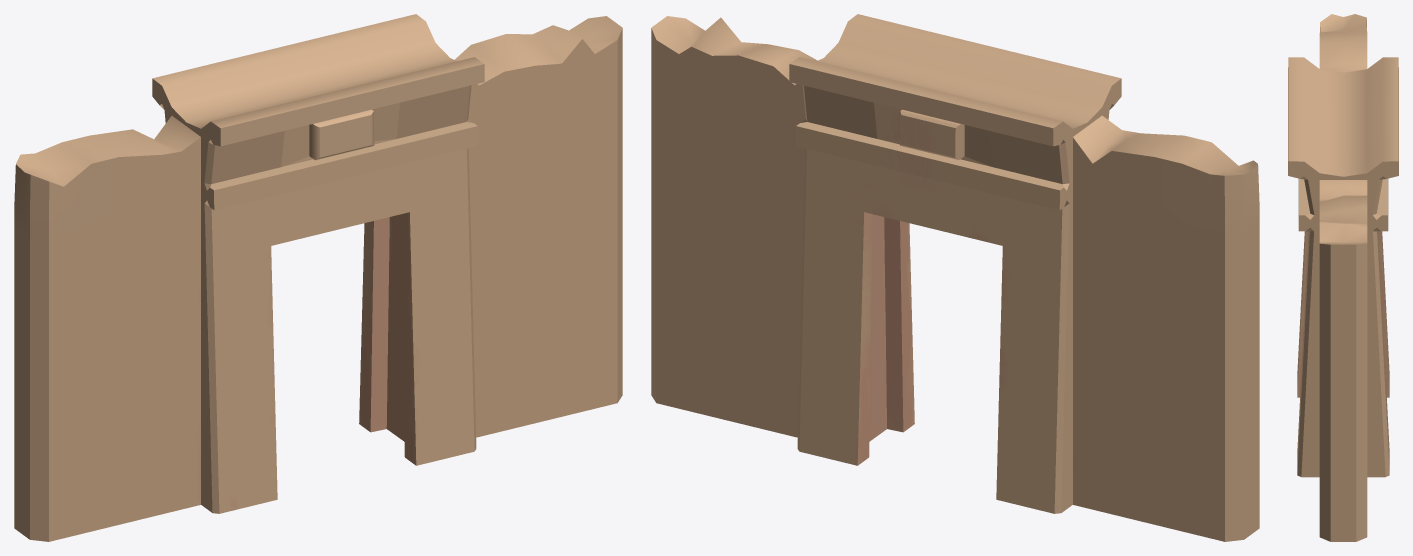
Rendered from ArchLIGHT_moranM.fbx.
The picture shows the model from 3 angles, left to right: view 1: azimuth 30°, elevation 25°; view 2: azimuth 150°, elevation 25°; view 3: azimuth 270°, elevation 25°; orthographic projection. The views are drawn at different scales.
Visible parts, largest first — view 1: Archway_DIRTY; view 2: Archway_DIRTY; view 3: Archway_DIRTY.
Boxes of the visible parts, x1,y1,x2,y2 form: Archway_DIRTY: (14,14,622,541); Archway_DIRTY: (651,14,1259,541); Archway_DIRTY: (1288,14,1398,541).
Size of the model in its own units: 38.84 by 24.47 by 7.78.
Materials: 1 (1 with a texture image).
